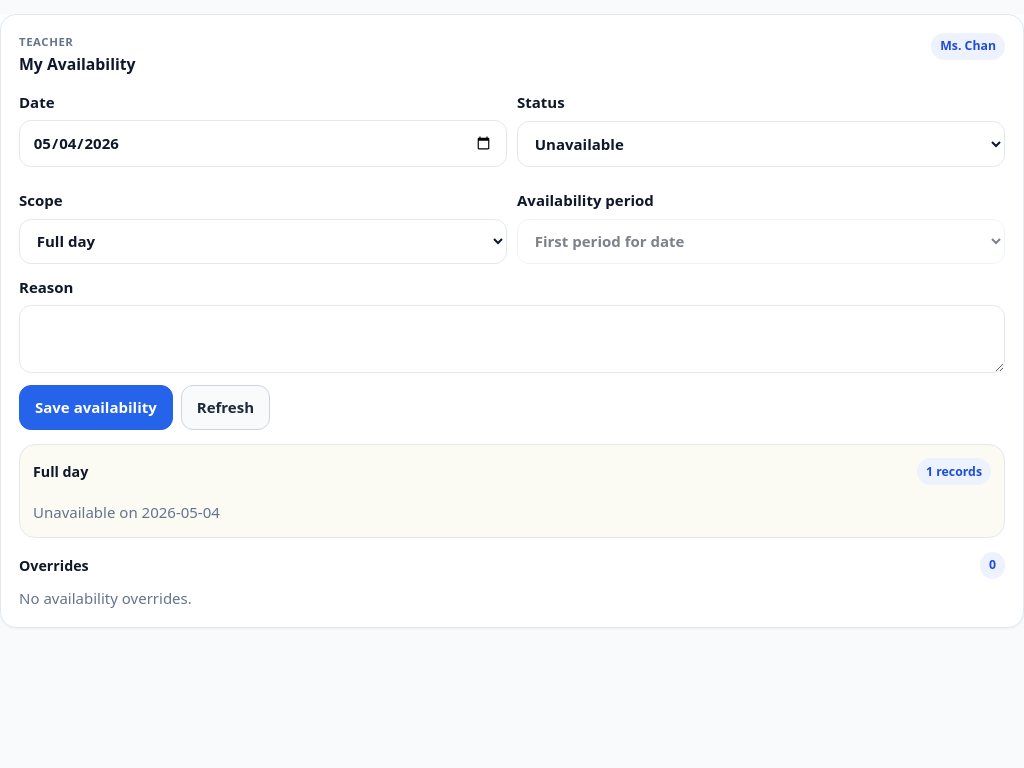
Test: TeacherAvailabilityPanel › lets a teacher save a full-day self-service availability override
The image size is (1024, 768).
Select "Limited" in the dropdown named "Availability status" at coordinates (761, 144), box [517, 121, 1005, 168]
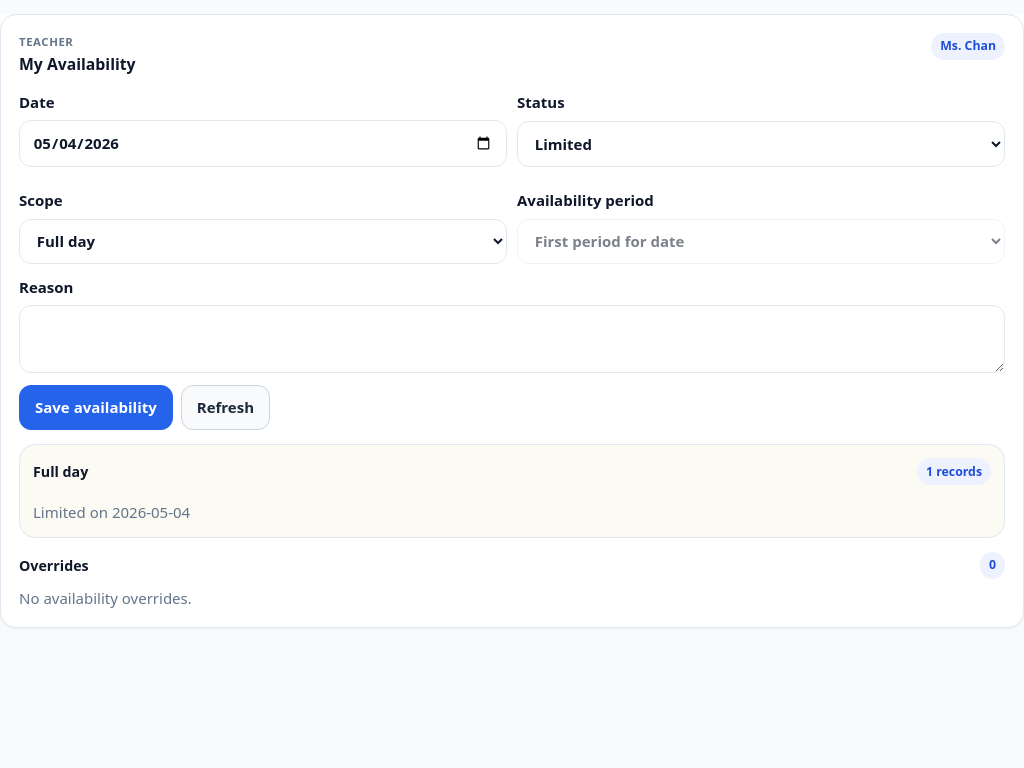
Type "Available for emergency coverage only" into the text box named "Availability reason" at coordinates (512, 339), box [19, 305, 1005, 373]
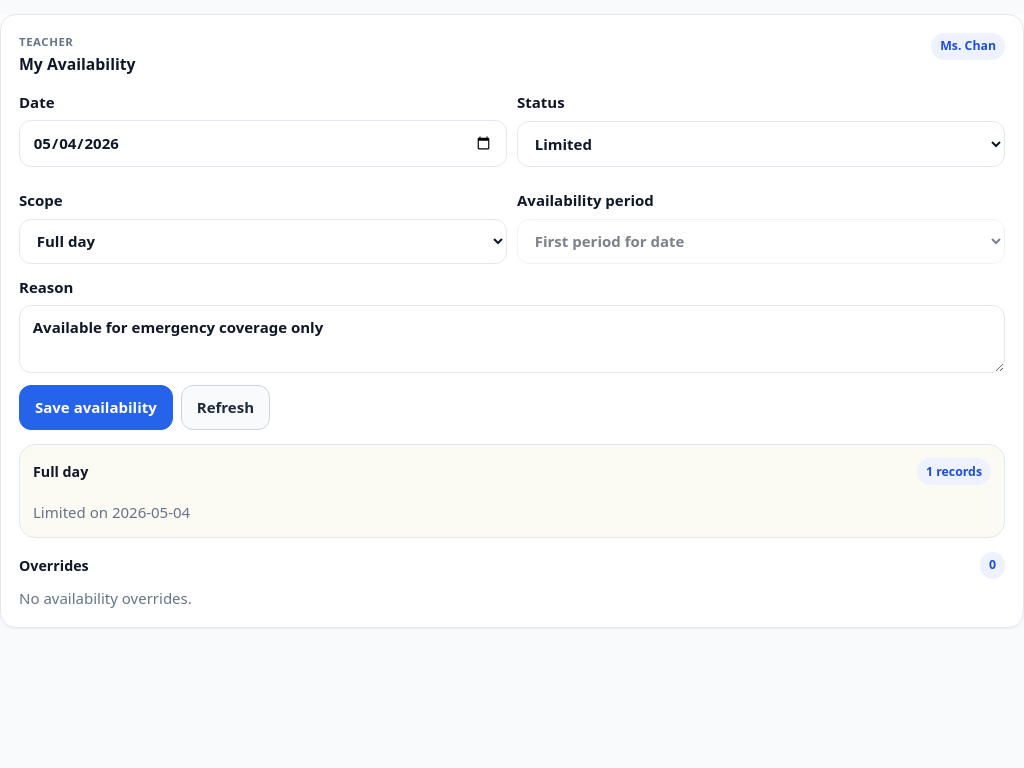
Click the button "Save availability" at coordinates (96, 408), box [19, 385, 173, 430]
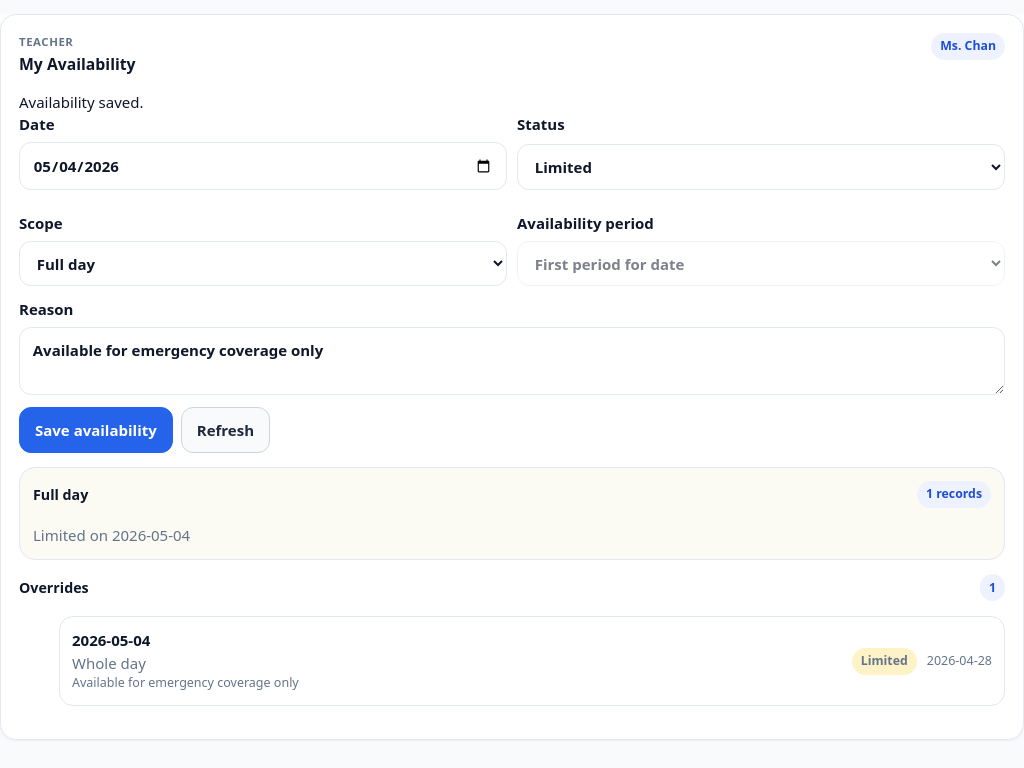
Expected: the text "Availability saved." is shown, [19, 92, 144, 112]
Expected: the text "Limited" is shown, [852, 648, 917, 675]
Expected: the text "Whole day" is shown, [72, 653, 146, 673]
